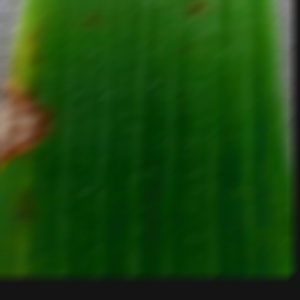Brown_Spot: (0, 73, 70, 182)
